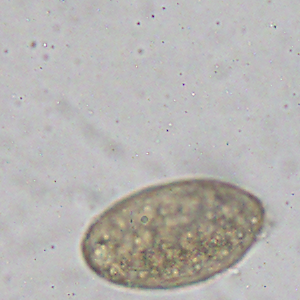Fasciola_hepatica_egg: (78, 174, 266, 293)
